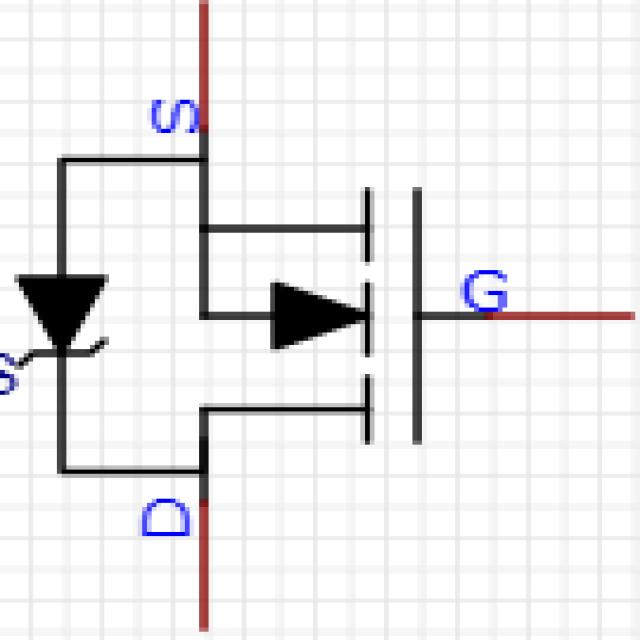nmos: (1, 19, 640, 618)
